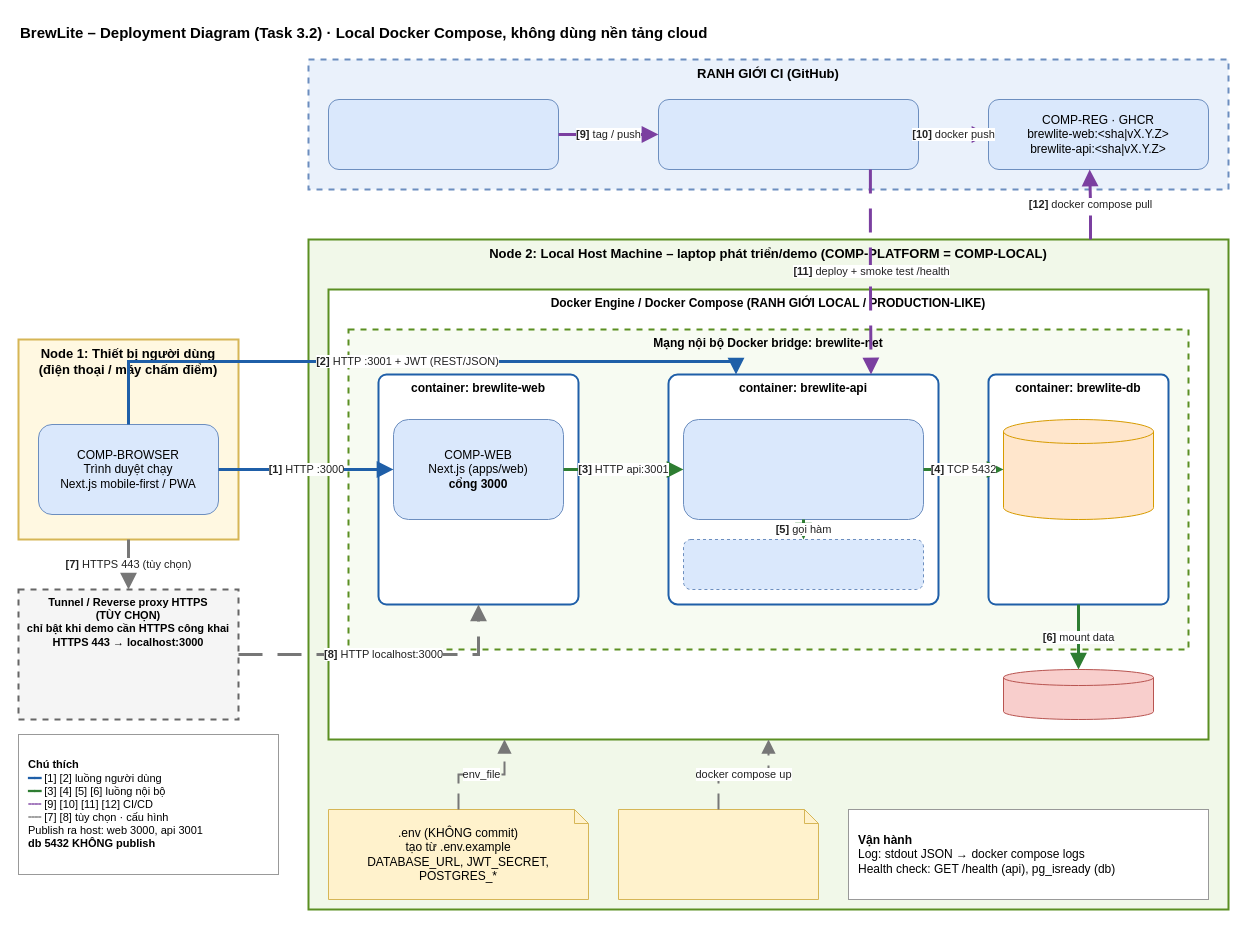
This 1246x927 diagram has some shape labels left out. Here are the shapes that lost their labels. From the top down, the centre of each, then its label:
At [443,134]: "COMP-CI · ci.yml Install → Lint → Unit Test → Build (PR lỗi không được merge)".
At [788,134]: "COMP-CD · cd.yml Build image → Push → Deploy → Migration → Smoke test".
At [803,469]: "COMP-API NestJS (apps/api) cổng 3001 GET /health · JWT".
At [1078,469]: "COMP-DB PostgreSQL 16 cổng 5432".
At [803,564]: "Node 3: COMP-PAY Mock Payment (module nội bộ)".
At [1078,694]: "Volume: pgdata (persistent storage)".
At [718,854]: "docker-compose.yml (gốc repo)".
